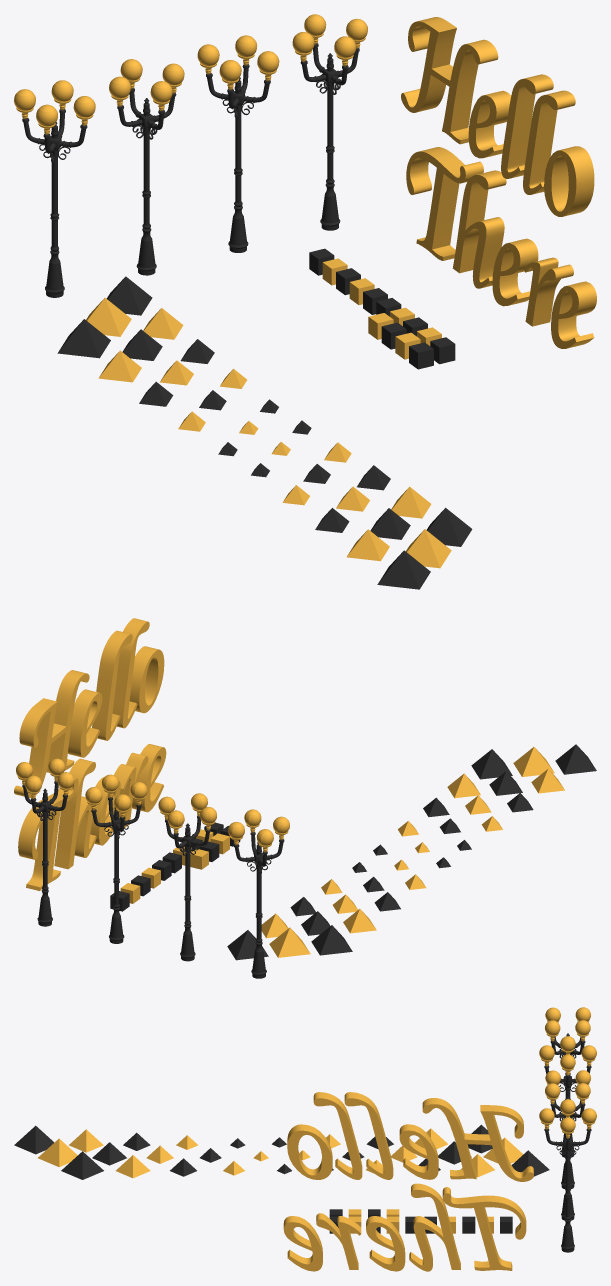
File: hello.fbx
3 renders of one model, top to bottom at view 1: azimuth 30°, elevation 25°; view 2: azimuth 150°, elevation 25°; view 3: azimuth 270°, elevation 25°, orthographic. The views are drawn at different scales.
Parts seen in each view (by area): view 1: typeMesh1, Pole6, Pole4, Pole5, Pole3, pPyramid18, pPyramid12, pPyramid1, pPyramid7, pPyramid24, pPyramid30, pPyramid13 (+5 smaller); view 2: typeMesh1, Pole6, Pole5, Pole4, Pole3, pPyramid7, pPyramid12, pPyramid18, pPyramid24, pPyramid30, pPyramid1, pPyramid13 (+3 smaller); view 3: typeMesh1, Pole3, Pole5, Pole4, Pole6, pPyramid24, pPyramid18, pPyramid30, pPyramid1, pPyramid20, pPyramid27, pPyramid29 (+1 smaller).
Part boxes in pixels (<box>): typeMesh1: <box>401,17,596,348</box>; Pole6: <box>14,80,95,297</box>; Pole4: <box>197,35,279,252</box>; Pole5: <box>109,59,184,275</box>; Pole3: <box>292,14,367,230</box>; pPyramid18: <box>377,550,430,589</box>; pPyramid12: <box>57,319,110,358</box>; pPyramid1: <box>106,276,152,315</box>; pPyramid7: <box>86,298,131,336</box>; pPyramid24: <box>426,507,472,546</box>; pPyramid30: <box>406,529,451,568</box>; pPyramid13: <box>98,350,141,382</box>; typeMesh1: <box>14,618,166,890</box>; Pole6: <box>228,809,289,978</box>; Pole5: <box>158,793,216,961</box>; Pole4: <box>85,774,147,943</box>; Pole3: <box>16,758,74,926</box>; pPyramid7: <box>269,927,310,957</box>; pPyramid12: <box>311,925,352,955</box>; pPyramid18: <box>555,744,596,774</box>; pPyramid24: <box>471,749,512,779</box>; pPyramid30: <box>513,747,554,776</box>; pPyramid1: <box>227,930,268,960</box>; pPyramid13: <box>343,909,376,933</box>; typeMesh1: <box>283,1092,533,1271</box>; Pole3: <box>539,1099,596,1252</box>; Pole5: <box>539,1036,596,1188</box>; Pole4: <box>545,1070,590,1220</box>; Pole6: <box>545,1007,590,1157</box>; pPyramid24: <box>61,1151,103,1179</box>; pPyramid18: <box>14,1125,54,1154</box>; pPyramid30: <box>38,1138,77,1167</box>; pPyramid1: <box>511,1150,549,1176</box>; pPyramid20: <box>69,1129,103,1152</box>; pPyramid27: <box>92,1142,126,1165</box>; pPyramid29: <box>115,1155,150,1178</box>.
Size of the model in its own units: 10.51 by 6.23 by 18.93.
